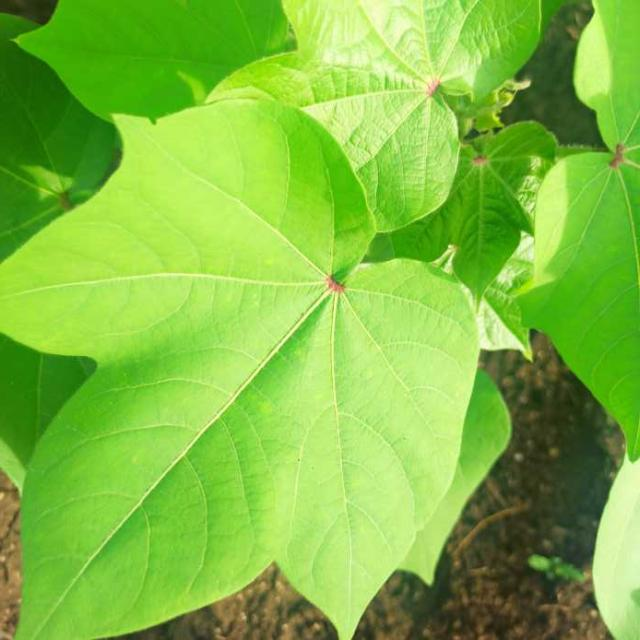Healthy Leaf: (5, 5, 640, 631)
